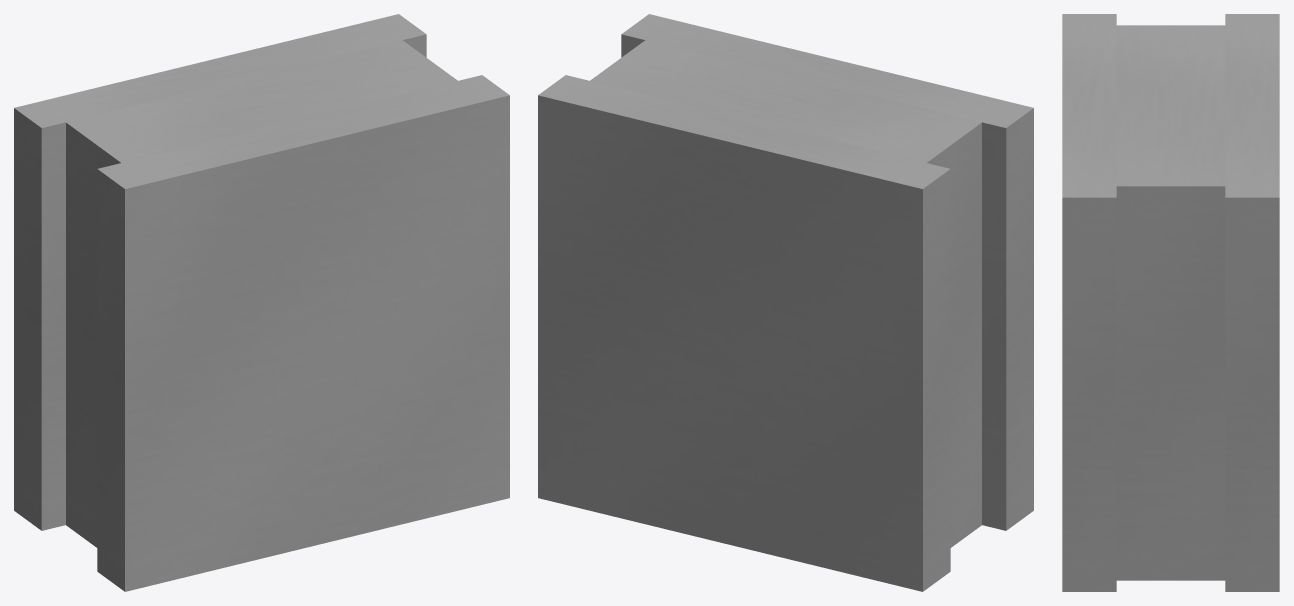
File: pillar_body_base.obj
3 renders of one model, left to right at view 1: azimuth 30°, elevation 25°; view 2: azimuth 150°, elevation 25°; view 3: azimuth 270°, elevation 25°, orthographic. The views are drawn at different scales.
Visible parts, largest first — view 1: 1, 0, 2; view 2: 0, 1, 2; view 3: 2, 0, 1.
Part boxes in pixels (x1,y1,x2,y2): 1: (97,75,509,591); 0: (14,14,426,530); 2: (66,40,457,547); 0: (538,75,950,591); 1: (621,14,1033,530); 2: (590,40,981,547); 2: (1116,25,1225,580); 0: (1225,14,1279,591); 1: (1062,14,1116,591).
Size of the model in its own units: 16 by 16 by 8.
